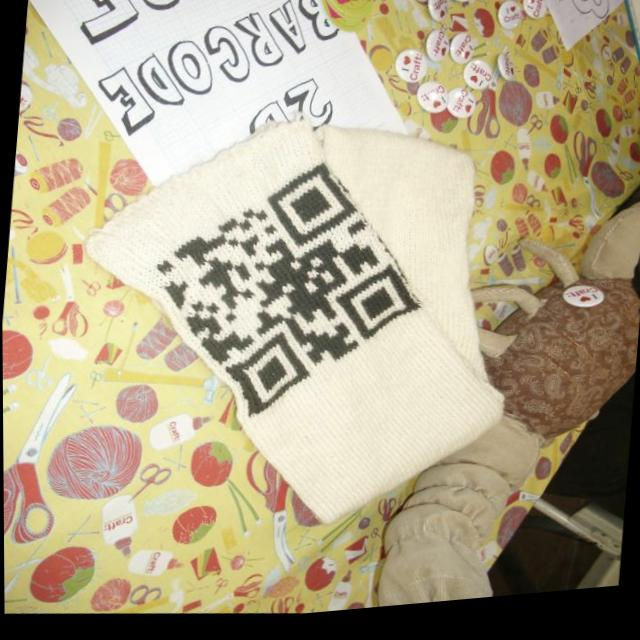qrcode: (134, 148, 432, 444)
